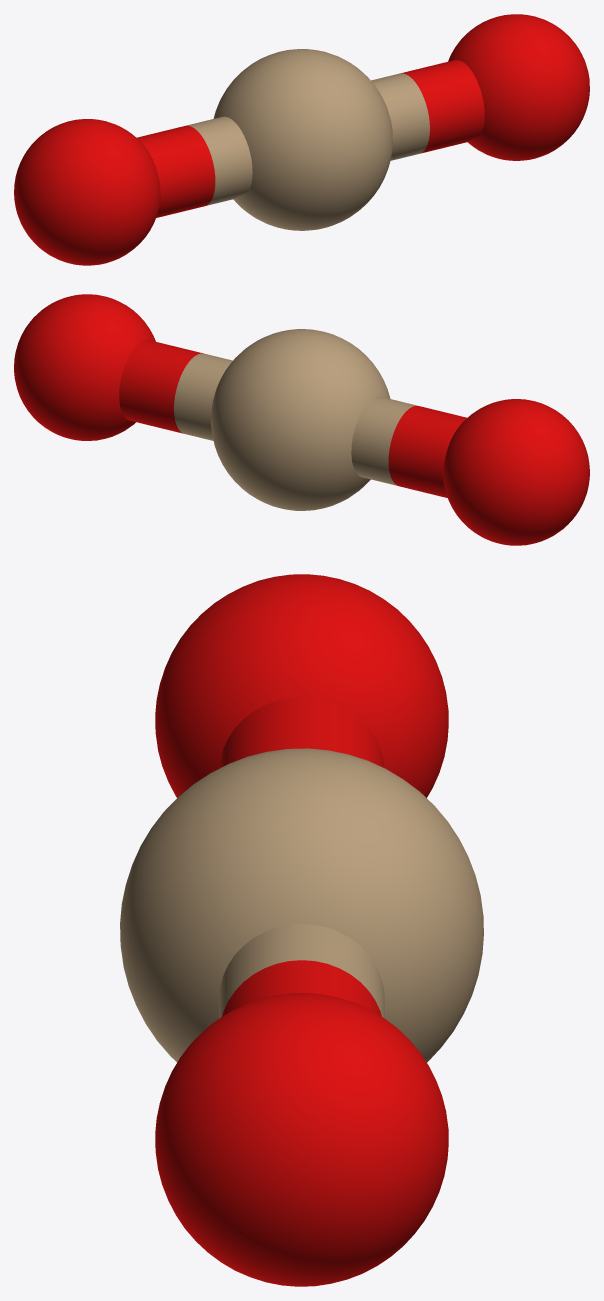
The model's file is linear.glb.
3 renders of one model, top to bottom at view 1: azimuth 30°, elevation 25°; view 2: azimuth 150°, elevation 25°; view 3: azimuth 270°, elevation 25°, orthographic. The views are drawn at different scales.
Parts seen in each view (by area): view 1: atoms, bonds; view 2: atoms, bonds; view 3: atoms, bonds.
Part boxes in pixels (box(x1,y1,x2,y2)): atoms: box(14, 14, 589, 265); bonds: box(137, 60, 484, 217); atoms: box(14, 294, 589, 545); bonds: box(119, 340, 467, 497); atoms: box(120, 574, 483, 1286); bonds: box(219, 697, 384, 1018).
Bounding box in the file's own units: 3.1 × 0.8796 × 0.8791.
